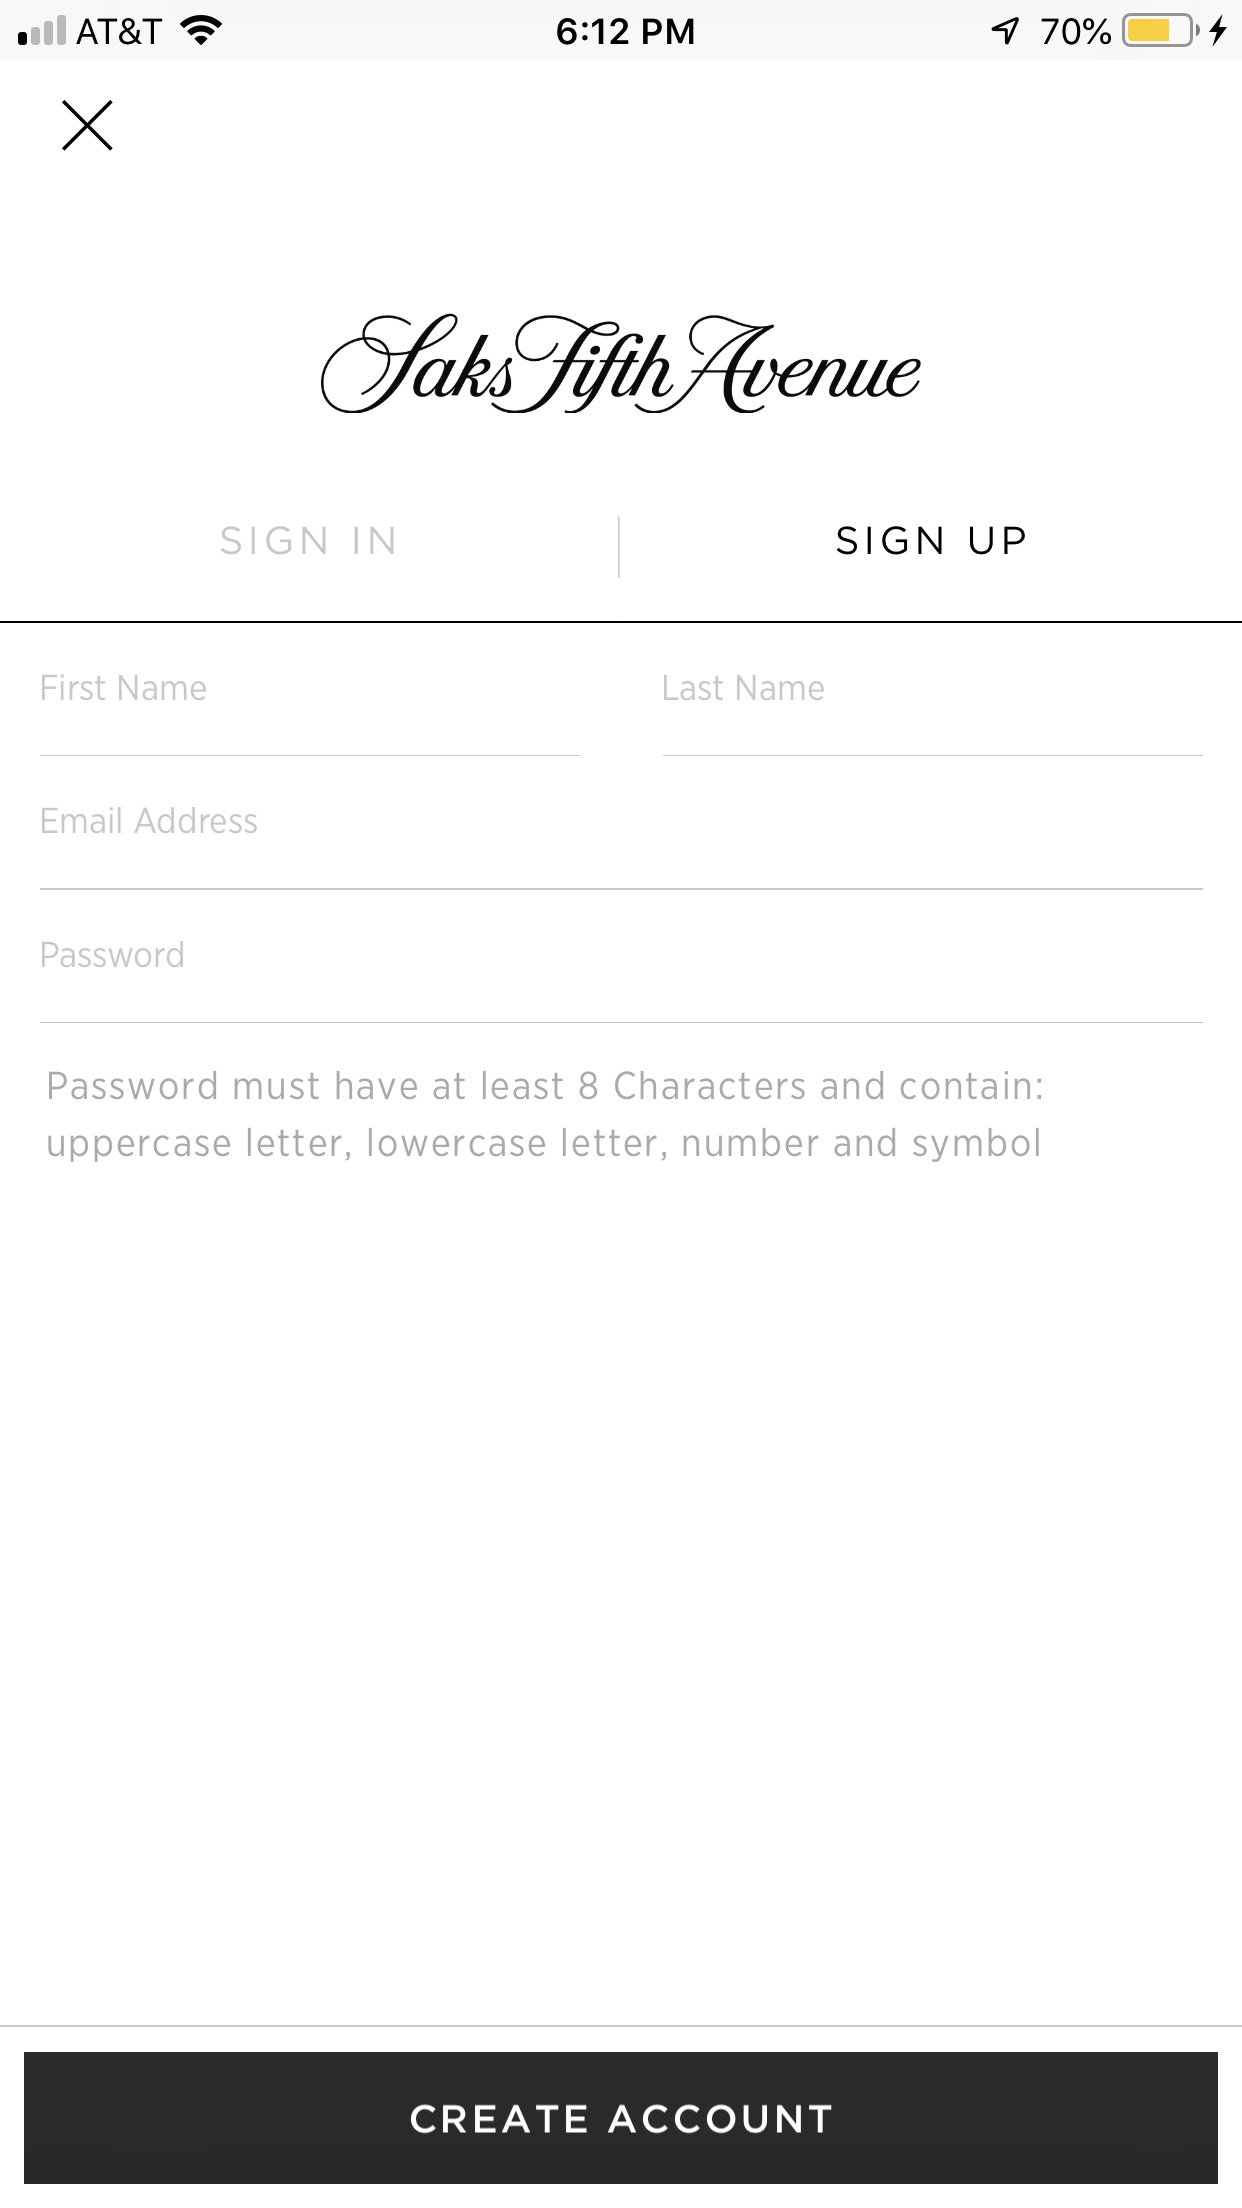EditText: (39, 805, 1204, 892), (39, 940, 1204, 1025), (663, 673, 1204, 758), (39, 673, 581, 757)
Icon: (62, 99, 114, 152)
Image: (321, 312, 922, 416)
Text: (49, 1071, 1042, 1163), (42, 805, 259, 836), (837, 526, 1027, 557), (221, 526, 394, 557), (663, 673, 825, 702), (41, 673, 206, 701), (42, 942, 185, 969)
TextButton: (24, 2050, 1219, 2184)
UpperTaskBar: (2, 2, 1242, 61)
